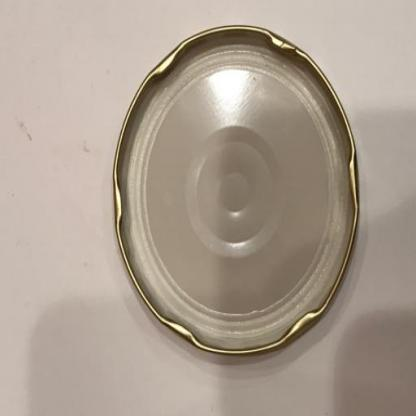METAL: (112, 24, 358, 355)
